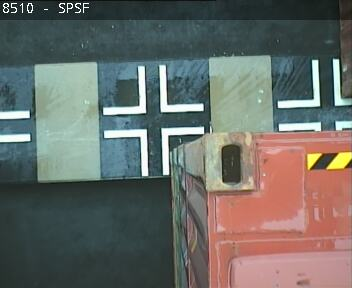groundmarker_1: (103, 64, 203, 115), (104, 125, 204, 176), (277, 58, 351, 109)
